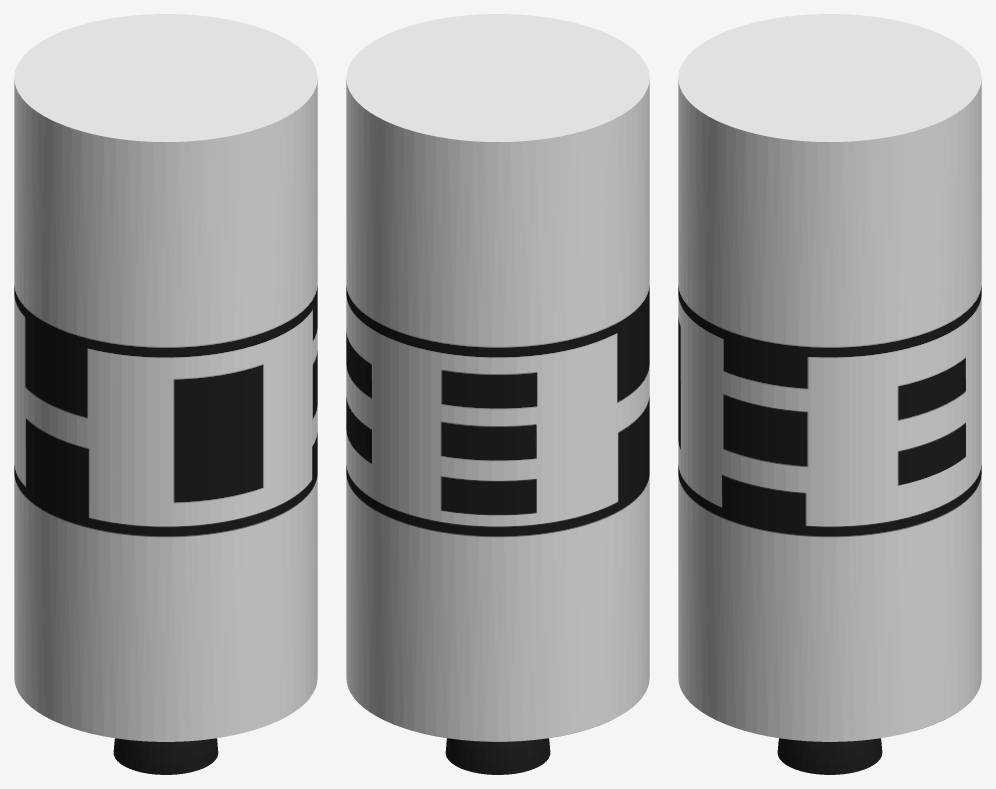
File: booster.obj
The picture shows the model from 3 angles, left to right: view 1: azimuth 30°, elevation 25°; view 2: azimuth 150°, elevation 25°; view 3: azimuth 270°, elevation 25°; orthographic projection.
Visible parts, largest first — view 1: Booster; view 2: Booster; view 3: Booster.
Part boxes in pixels (<box>): Booster: <box>14,14,317,774</box>; Booster: <box>346,14,649,774</box>; Booster: <box>678,14,981,774</box>.
Bounding box in the file's own units: 110 × 270 × 110.
